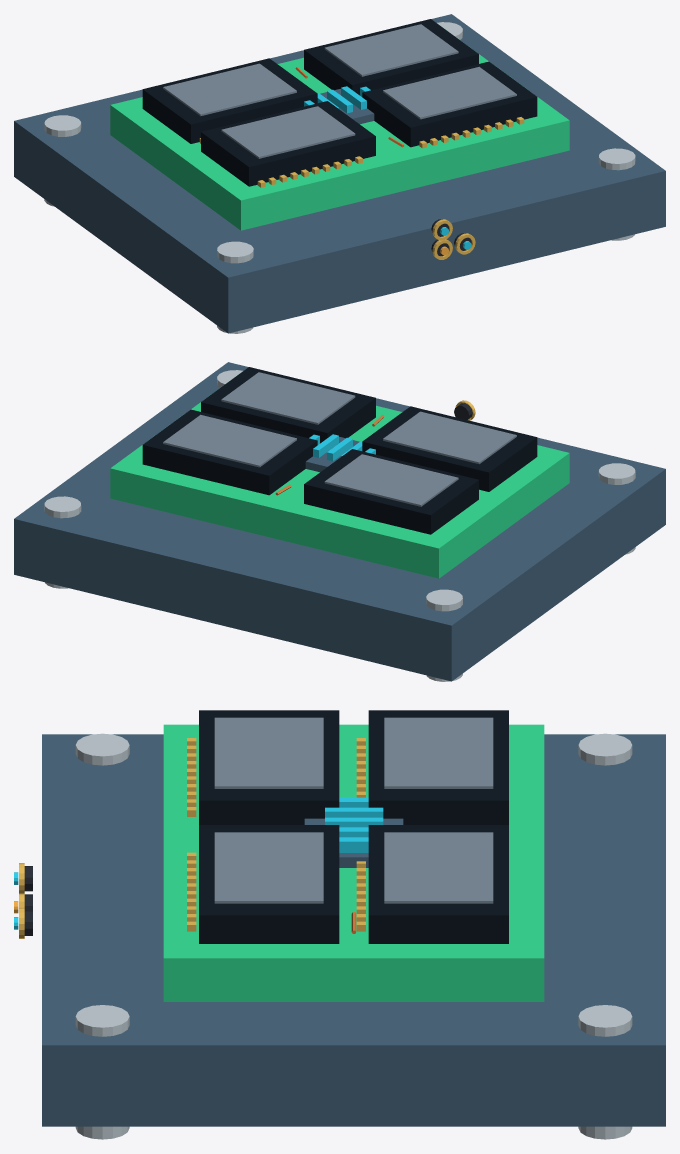
The model's file is 06_L82_FourChipletMissionComputerEUT.fbx.
The picture shows the model from 3 angles, top to bottom: view 1: azimuth 30°, elevation 25°; view 2: azimuth 150°, elevation 25°; view 3: azimuth 270°, elevation 25°; orthographic projection. The views are drawn at different scales.
Parts seen in each view (by area): view 1: FourChipletMissionComputerEUT; view 2: FourChipletMissionComputerEUT; view 3: FourChipletMissionComputerEUT, FourChipletMissionComputerEUT_Part_0075, FourChipletMissionComputerEUT_Part_0077.
Part boxes in pixels (box(x1,y1,x2,y2)): FourChipletMissionComputerEUT: box(14, 14, 665, 333); FourChipletMissionComputerEUT: box(14, 362, 665, 681); FourChipletMissionComputerEUT: box(14, 710, 665, 1139); FourChipletMissionComputerEUT_Part_0075: box(304, 818, 403, 867); FourChipletMissionComputerEUT_Part_0077: box(325, 807, 383, 817).
Bounding box in the file's own units: 328 × 90.07 × 290.
